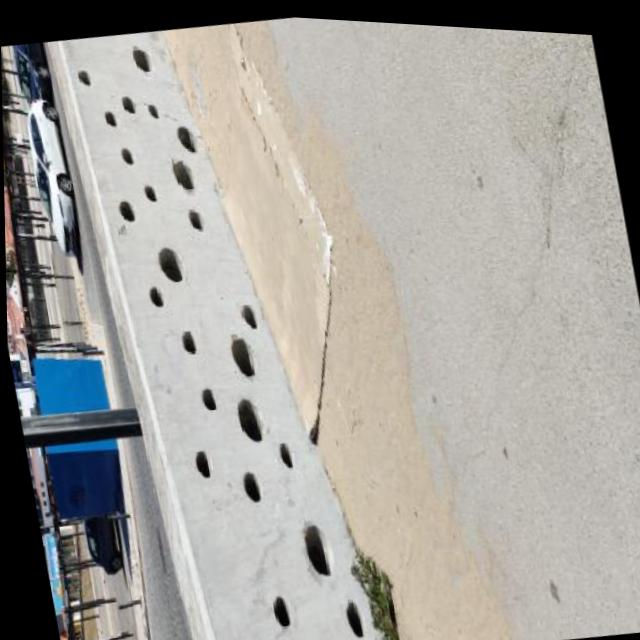cardboard: (192, 13, 371, 453)
